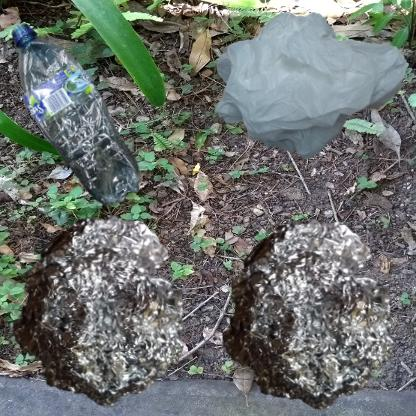aluminio: (213, 213, 400, 416), (10, 213, 186, 409)
bolsa: (213, 10, 409, 162)
botella: (10, 10, 152, 229)
